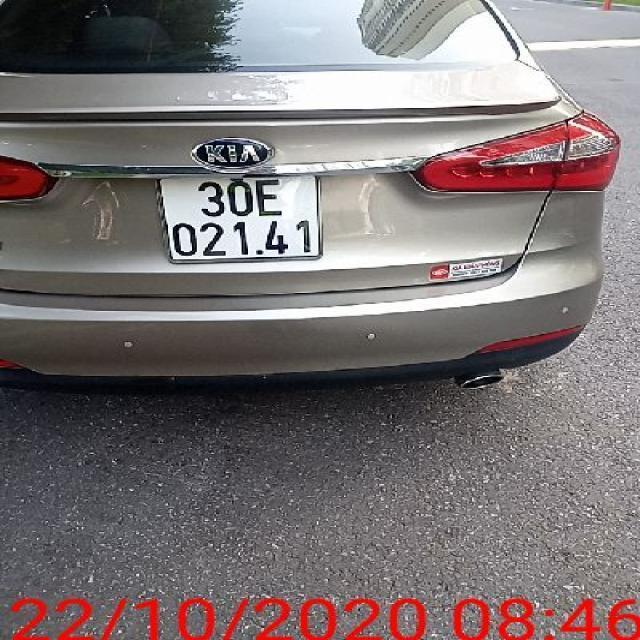bien_so_oto: (152, 169, 326, 267)
